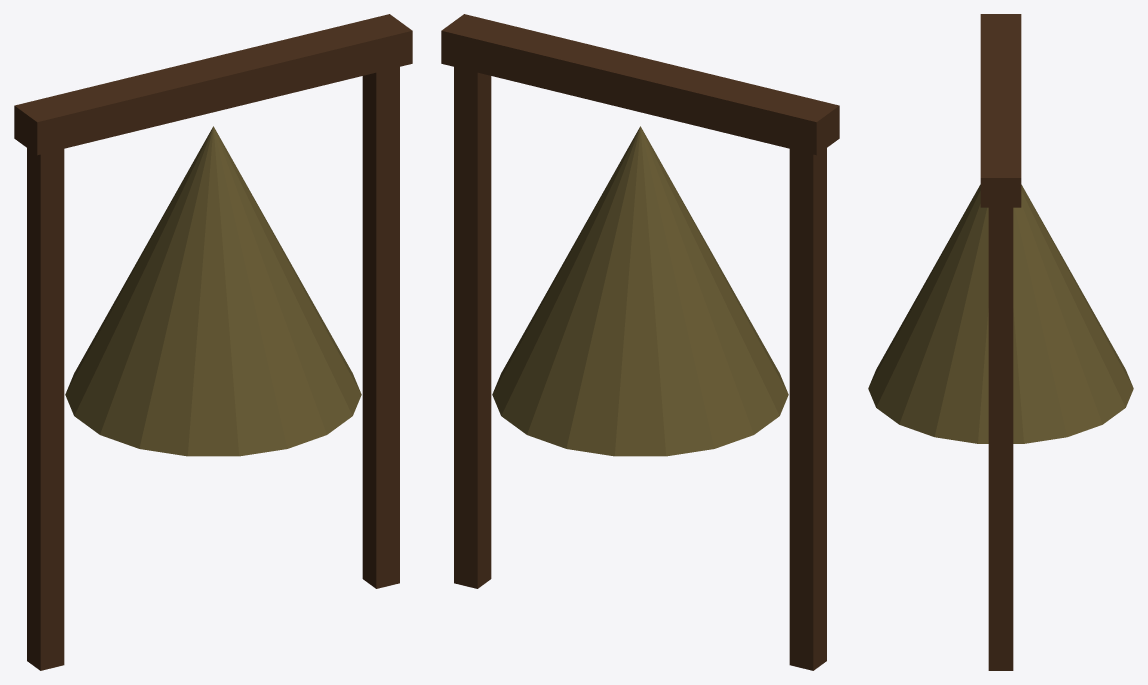
Rendered from bell.dcddd0a9.glb.
3 views of the same model, side by side, from view 1: azimuth 30°, elevation 25°; view 2: azimuth 150°, elevation 25°; view 3: azimuth 270°, elevation 25° (orthographic). The views are drawn at different scales.
Visible parts, largest first — view 1: body; view 2: body; view 3: body.
Part boxes in pixels (x1,y1,x2,y2): body: [14, 14, 412, 670]; body: [441, 14, 839, 670]; body: [868, 14, 1133, 670].
Size of the model in its own units: 1.9 by 2.68 by 1.3.
